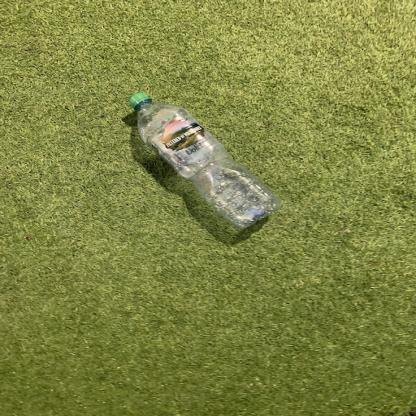trash: (128, 92, 287, 233)
